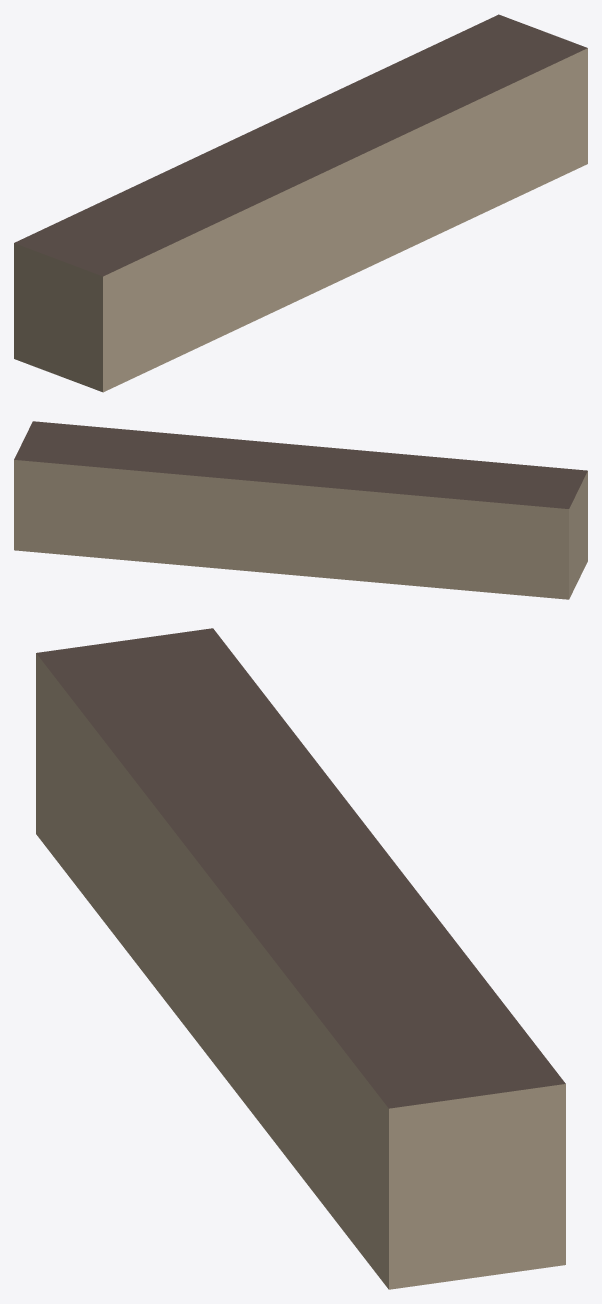
The picture shows the model from 3 angles, top to bottom: view 1: azimuth 30°, elevation 25°; view 2: azimuth 150°, elevation 25°; view 3: azimuth 270°, elevation 25°; orthographic projection. The views are drawn at different scales.
Parts seen in each view (by area): view 1: HP-w859078892; view 2: HP-w859078892; view 3: HP-w859078892.
Part boxes in pixels (x1,y1,x2,y2): HP-w859078892: (14,14,587,392); HP-w859078892: (14,421,587,599); HP-w859078892: (36,628,565,1289).
Size of the model in its own units: 51.2 by 9 by 23.86.
